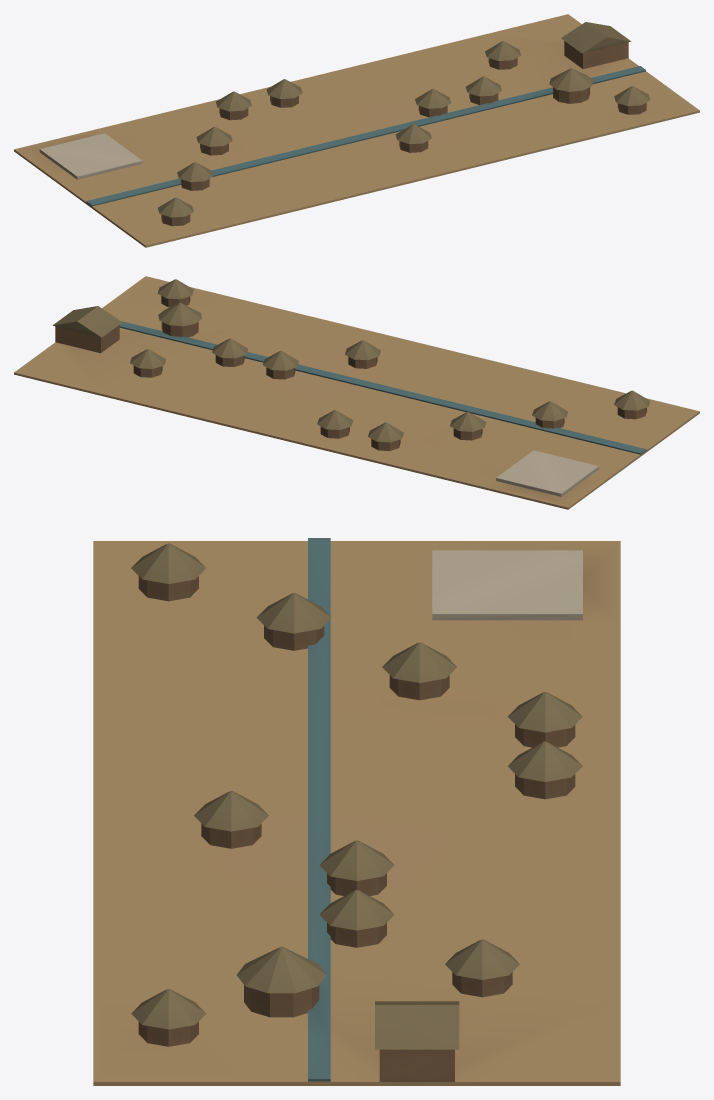
File: roman-forum-regal.glb
3 renders of one model, top to bottom at view 1: azimuth 30°, elevation 25°; view 2: azimuth 150°, elevation 25°; view 3: azimuth 270°, elevation 25°, orthographic. The views are drawn at different scales.
Parts seen in each view (by area): view 1: p0_ground, p1_huts, p2_shrines; view 2: p0_ground, p1_huts, p2_shrines; view 3: p0_ground, p1_huts, p2_shrines.
Part boxes in pixels (<box>): p0_ground: <box>14,14,699,247</box>; p1_huts: <box>158,41,650,226</box>; p2_shrines: <box>39,22,631,179</box>; p0_ground: <box>14,276,699,509</box>; p1_huts: <box>130,279,650,450</box>; p2_shrines: <box>52,302,598,496</box>; p0_ground: <box>93,538,620,1085</box>; p1_huts: <box>131,543,582,1046</box>; p2_shrines: <box>237,550,582,1081</box>.
Bounding box in the file's own units: 171 × 8.6 × 70.
